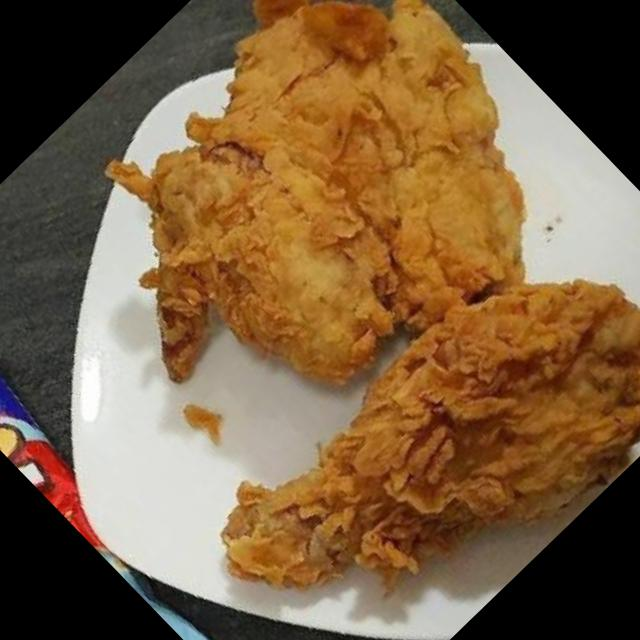Fried Chicken: (111, 0, 528, 388), (222, 279, 640, 593)
